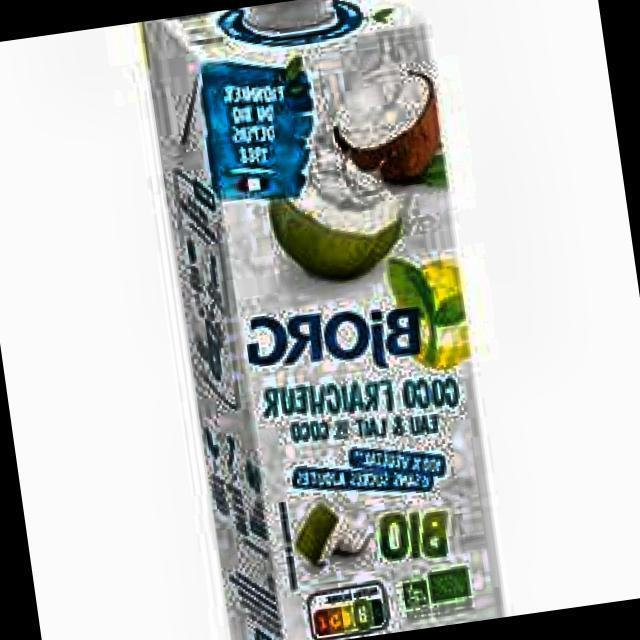cardboard: (139, 0, 514, 640)
